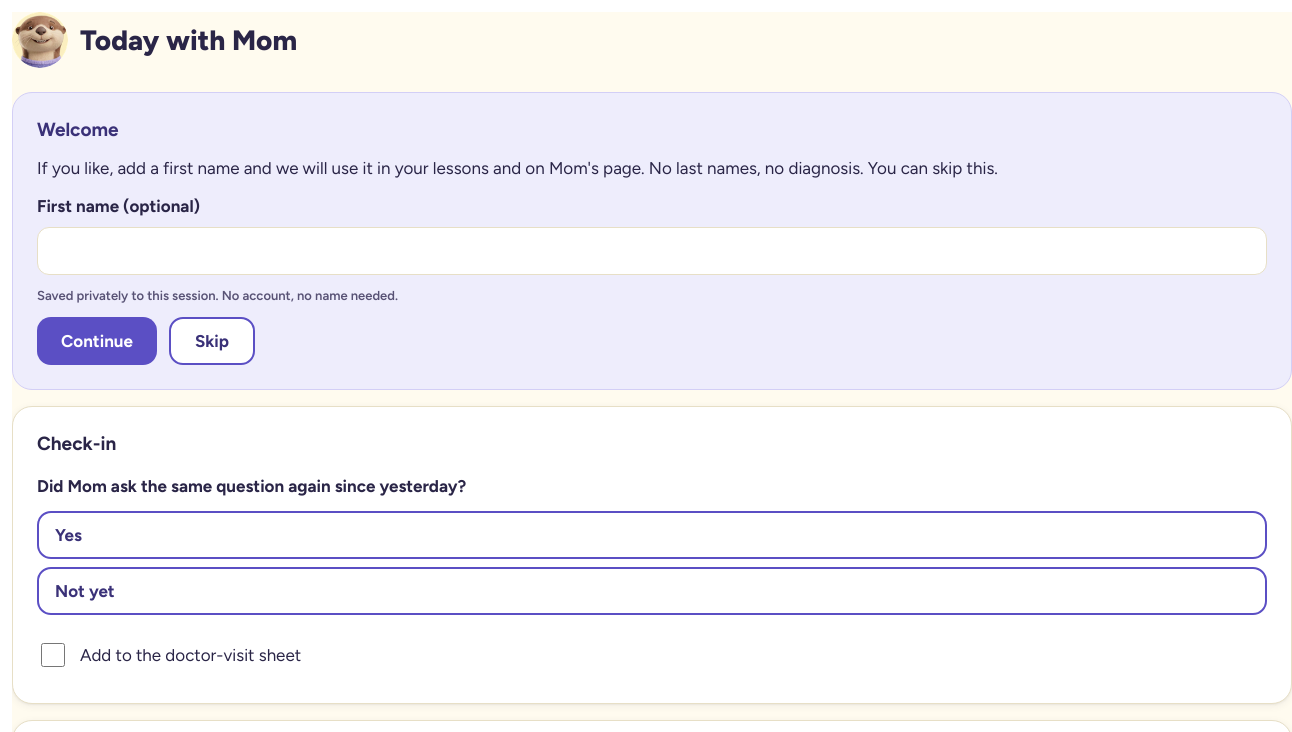
Check-in card › 422 shows a plain message and keeps the buttons
This screenshot has width=1292, height=732.
expect the heading "Today with Mom" is shown: met, box [80,23,297,57]
What coordinates should you click on to do the following:
click the button "Not yet"
I would click on:
 (85, 591)
Its box is [37,567,1267,615].
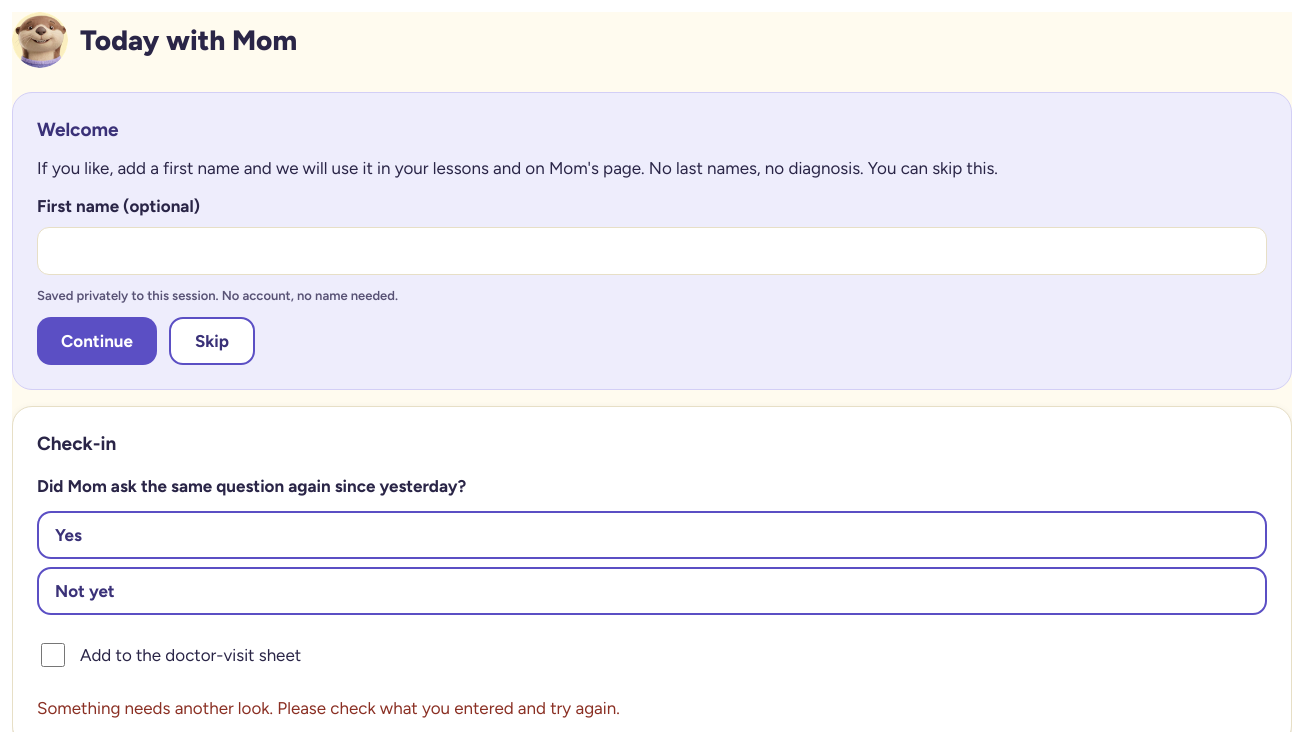
expect the message shows "needs another look": met, box [37,698,620,718]
